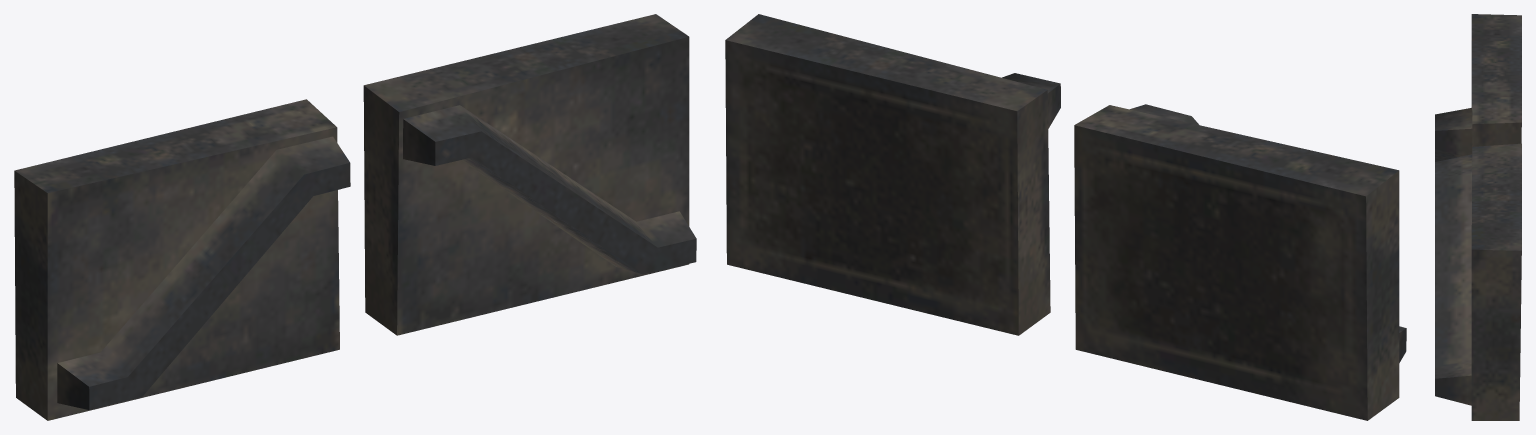
3 views of the same model, side by side, from view 1: azimuth 30°, elevation 25°; view 2: azimuth 150°, elevation 25°; view 3: azimuth 270°, elevation 25° (orthographic). The views are drawn at different scales.
Parts seen in each view (by area): view 1: set_0_group_0; view 2: set_0_group_0; view 3: set_0_group_0.
Boxes of the visible parts, x1,y1,x2,y2 form: set_0_group_0: [14, 14, 696, 420]; set_0_group_0: [725, 14, 1406, 420]; set_0_group_0: [1435, 14, 1521, 420].
Size of the model in its own units: 0.413 by 0.1401 by 0.0643.
1 material, 1 textured.
